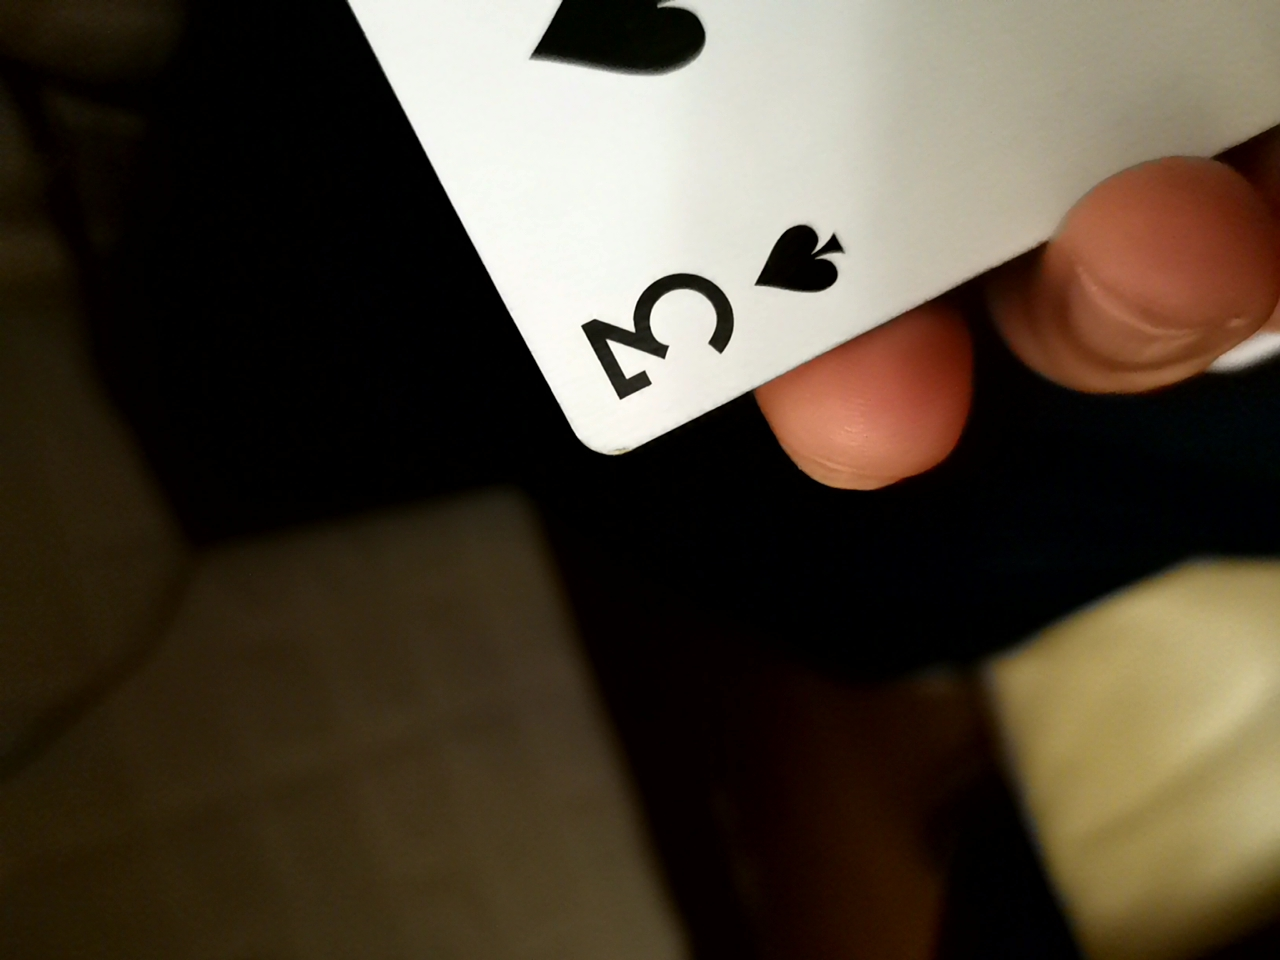ht 3: (219, 5, 1280, 494)
